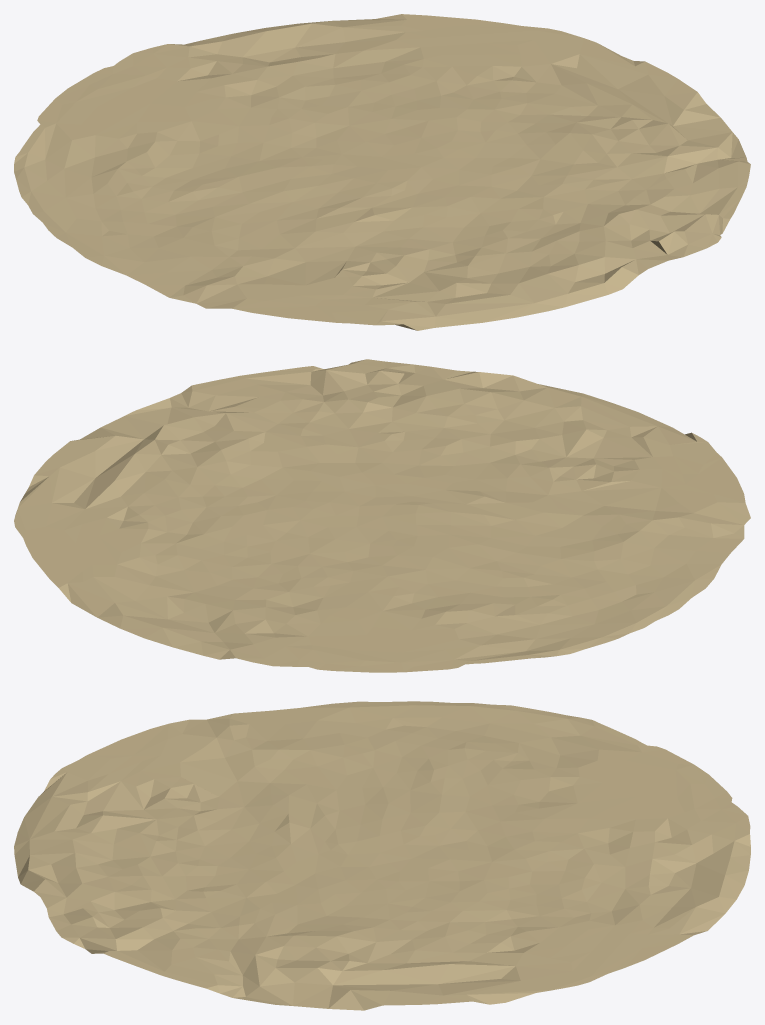
The model's file is Medium Sand.fbx.
3 renders of one model, top to bottom at view 1: azimuth 30°, elevation 25°; view 2: azimuth 150°, elevation 25°; view 3: azimuth 270°, elevation 25°, orthographic.
Visible parts, largest first — view 1: pPlane2; view 2: pPlane2; view 3: pPlane2.
Boxes of the visible parts, bbox=[...] form: pPlane2: bbox=[14, 14, 750, 330]; pPlane2: bbox=[14, 359, 750, 672]; pPlane2: bbox=[14, 701, 750, 1010].
Bounding box in the file's own units: 41.88 × 0.9814 × 42.25.
